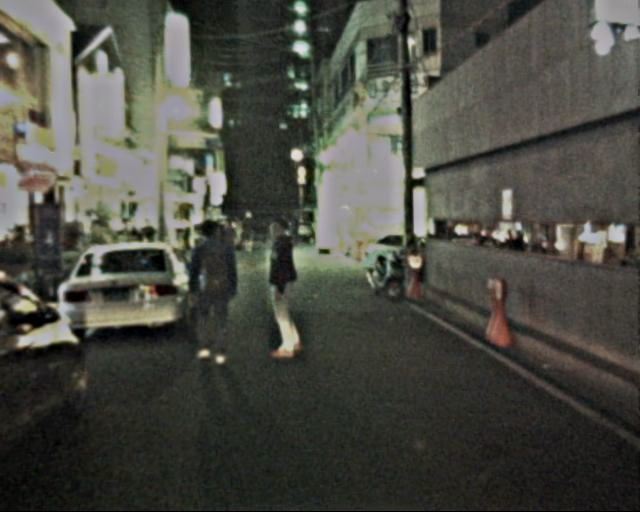person: (185, 220, 244, 363), (256, 220, 312, 356)
